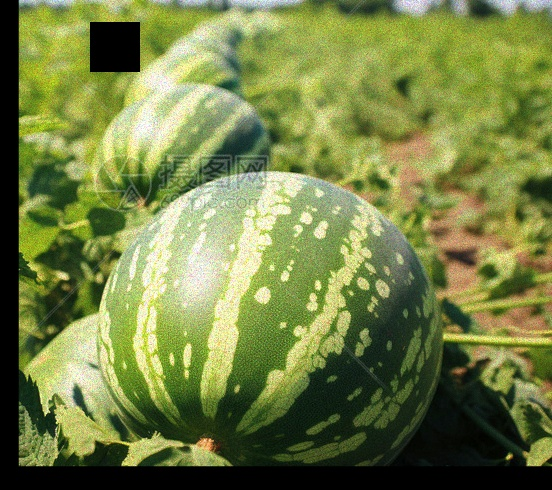watermelon: (93, 169, 434, 462), (95, 81, 267, 213)
